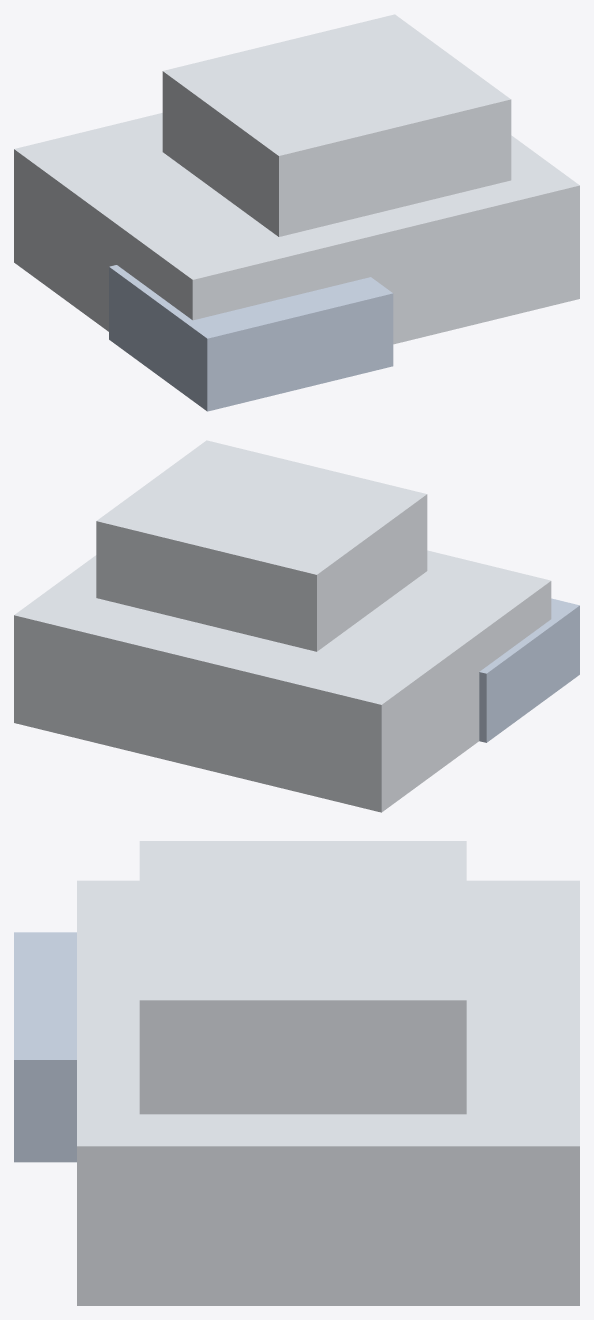
The model's file is SnowPile.glb.
The picture shows the model from 3 angles, top to bottom: view 1: azimuth 30°, elevation 25°; view 2: azimuth 150°, elevation 25°; view 3: azimuth 270°, elevation 25°; orthographic projection. The views are drawn at different scales.
Visible parts, largest first — view 1: SnowPile; view 2: SnowPile; view 3: SnowPile.
Part boxes in pixels (x1,y1,x2,y2): SnowPile: [14, 14, 579, 411]; SnowPile: [14, 440, 579, 812]; SnowPile: [14, 841, 579, 1305].
Size of the model in its own units: 5.1 by 2.4 by 4.5.
1 material, 1 textured.
